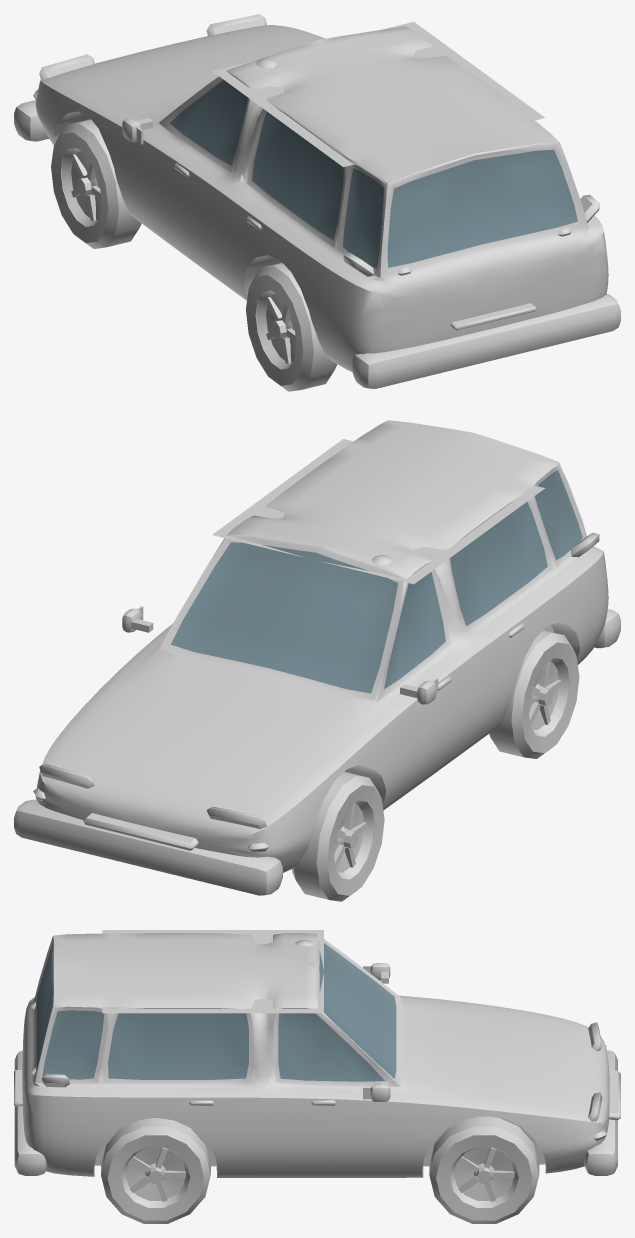
Rendered from car_hatch.glb.
3 views of the same model, one above another, from view 1: azimuth 30°, elevation 25°; view 2: azimuth 150°, elevation 25°; view 3: azimuth 270°, elevation 25° (orthographic). The views are drawn at different scales.
Parts seen in each view (by area): view 1: car_hatch; view 2: car_hatch; view 3: car_hatch.
Boxes of the visible parts, <box> form: car_hatch: <box>14,14,620,391</box>; car_hatch: <box>14,420,620,901</box>; car_hatch: <box>14,930,620,1223</box>.
Bounding box in the file's own units: 1.96 × 1.49 × 3.97.
